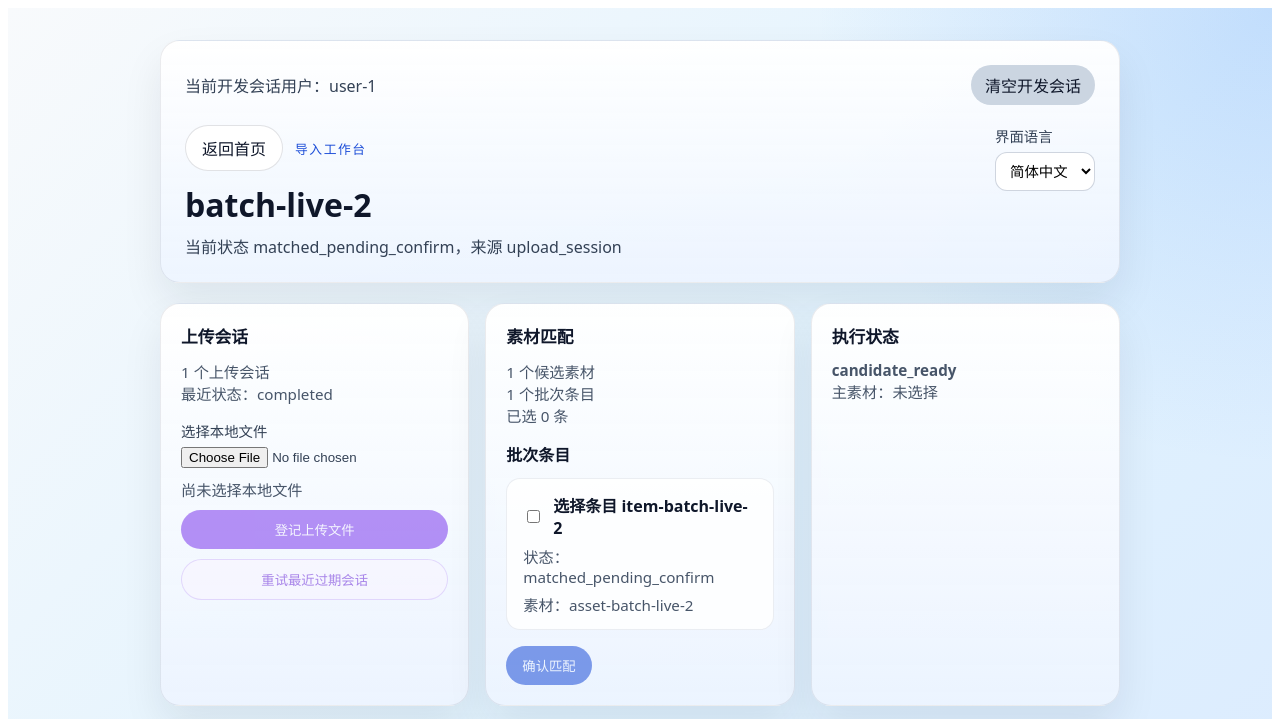
it: App › keeps the current import workbench visible and surfaces an action error when confirm matches fails
The width and height of the screenshot is (1280, 719).
Expected: the heading "batch-live-2" is shown, [185,183,372,226]
Click the checkbox labelled "选择条目 item-batch-live-2" at (534, 516), box [527,510,540,522]
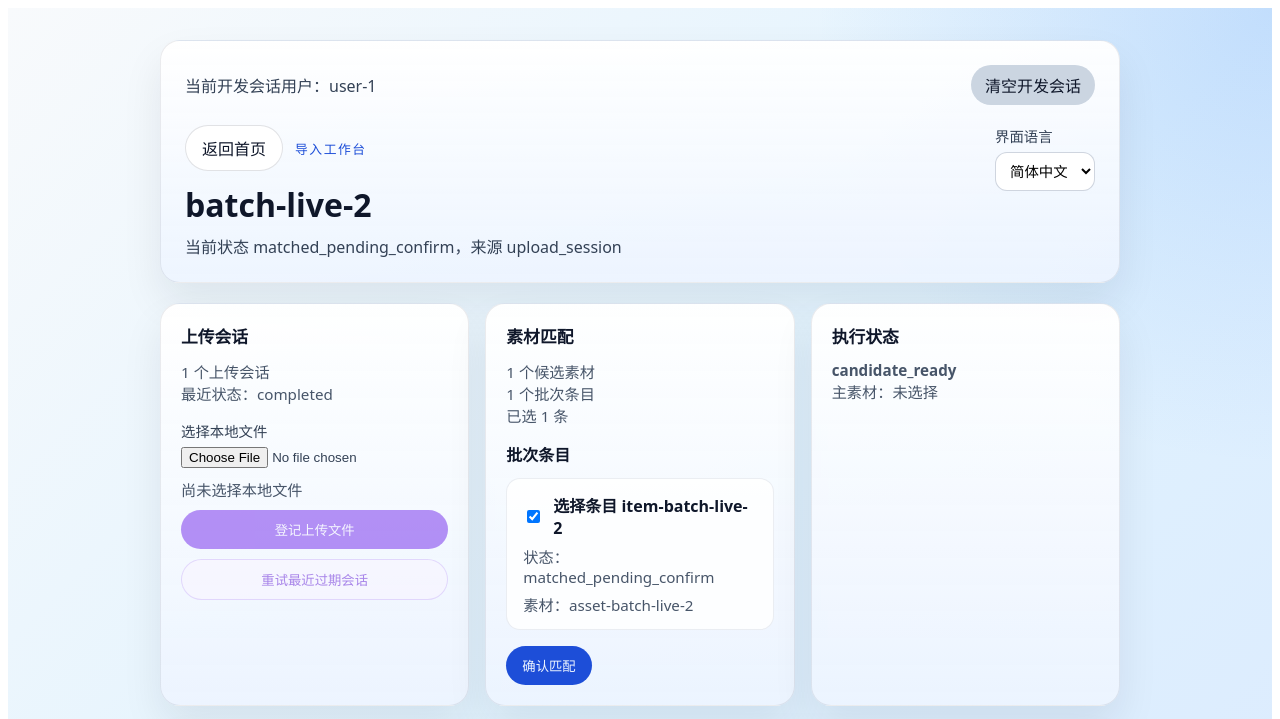
Result: the button "确认匹配" is enabled
Click the button "确认匹配" at (549, 666), box [506,646,592,685]
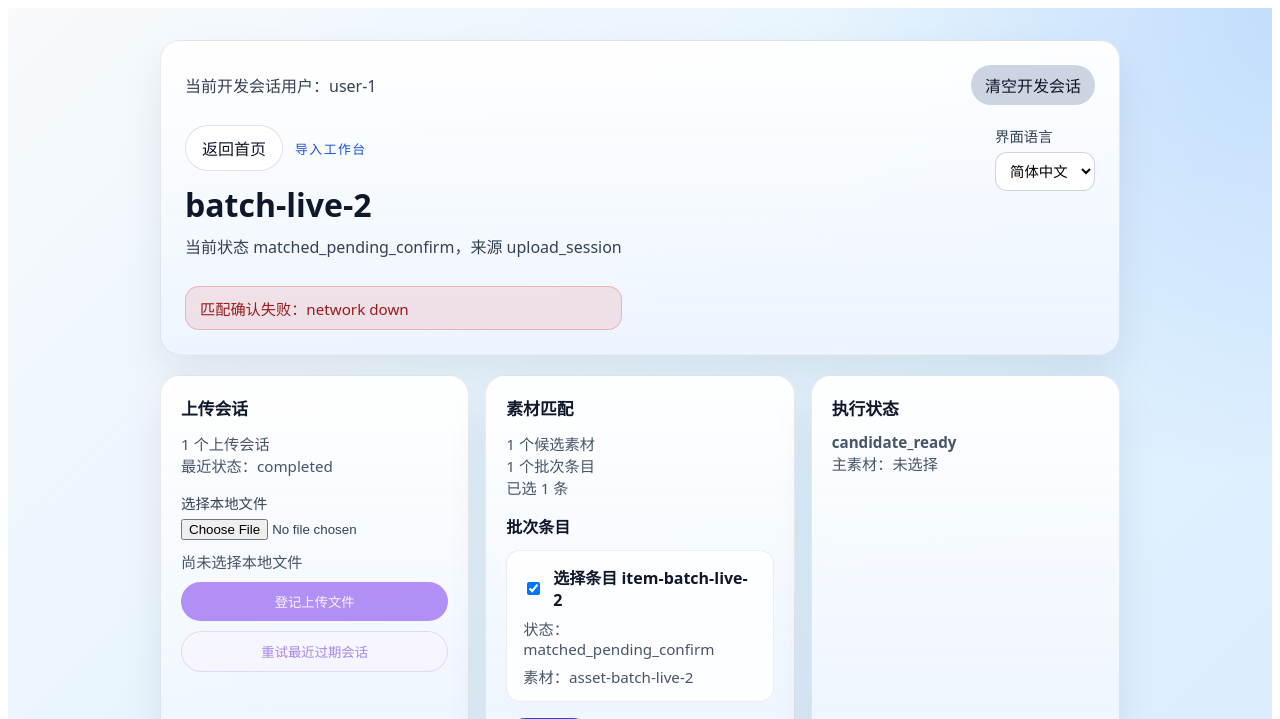
Expected: the heading "batch-live-2" is shown, [185,183,372,226]
Result: the text "匹配确认失败：network down" is shown at [200,299,409,319]
